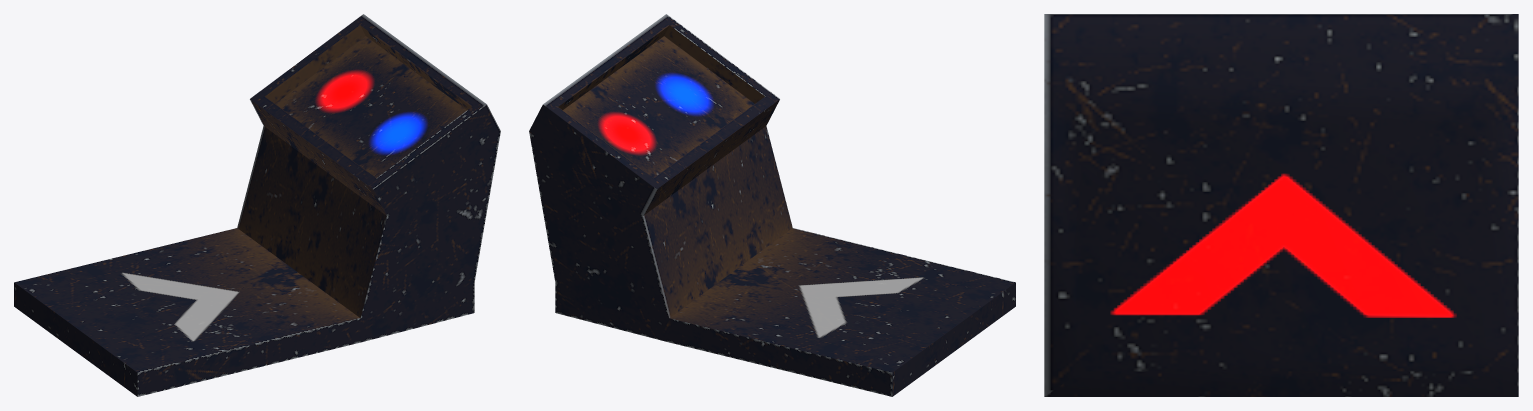
File: control.glb
3 views of the same model, side by side, from view 1: azimuth 30°, elevation 25°; view 2: azimuth 150°, elevation 25°; view 3: azimuth 270°, elevation 25° (orthographic). The views are drawn at different scales.
Parts seen in each view (by area): view 1: control; view 2: control; view 3: control.
Boxes of the visible parts, x1=… form: control: x1=14, y1=14, x2=500, y2=396; control: x1=529, y1=14, x2=1015, y2=396; control: x1=1044, y1=14, x2=1518, y2=396.
Bounding box in the file's own units: 2.86 × 1.54 × 1.66.
Materials: 1 (1 with a texture image).
